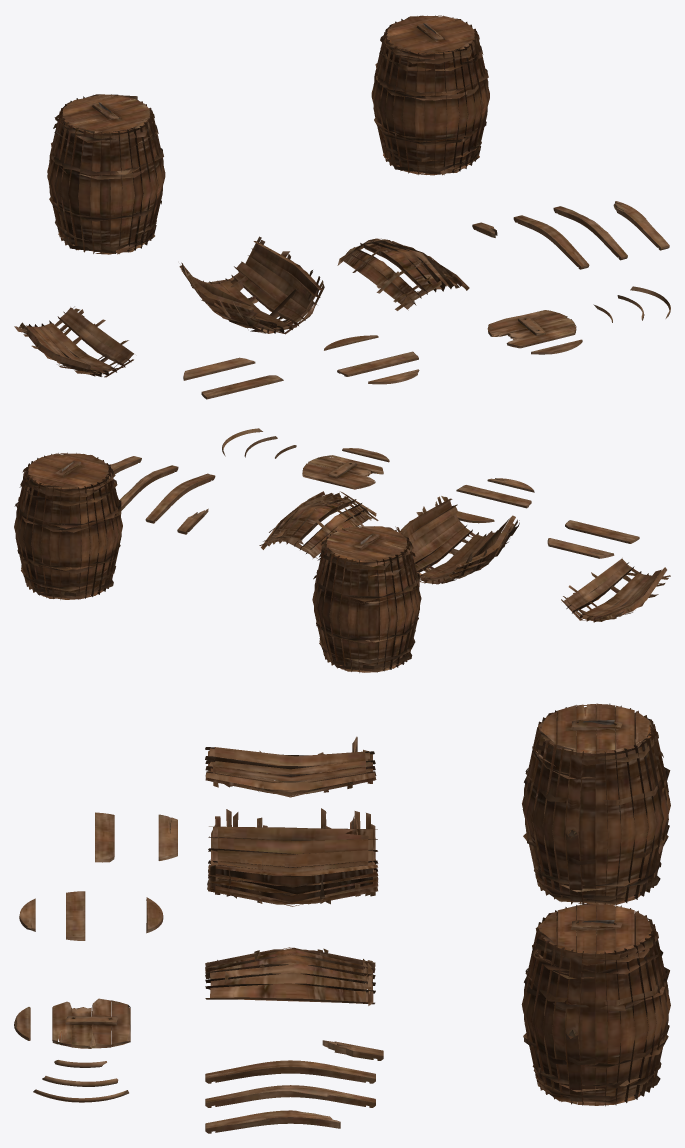
The model's file is kf_barrels.glb.
3 views of the same model, one above another, from view 1: azimuth 30°, elevation 25°; view 2: azimuth 150°, elevation 25°; view 3: azimuth 270°, elevation 25° (orthographic). The views are drawn at different scales.
Parts seen in each view (by area): view 1: wooden_barrels_01_barrel02, wooden_barrels_01_barrel01, wooden_barrels_01_piece01, wooden_barrels_01_piece03, wooden_barrels_01_piece02, wooden_barrels_01_piece08, wooden_barrels_01_piece04, wooden_barrels_01_piece05, wooden_barrels_01_piece06, wooden_barrels_01_piece11, wooden_barrels_01_piece14, wooden_barrels_01_piece13; view 2: wooden_barrels_01_barrel02, wooden_barrels_01_barrel01, wooden_barrels_01_piece01, wooden_barrels_01_piece03, wooden_barrels_01_piece02, wooden_barrels_01_piece08, wooden_barrels_01_piece04, wooden_barrels_01_piece14, wooden_barrels_01_piece11, wooden_barrels_01_piece05, wooden_barrels_01_piece13; view 3: wooden_barrels_01_barrel01, wooden_barrels_01_barrel02, wooden_barrels_01_piece01, wooden_barrels_01_piece03, wooden_barrels_01_piece02, wooden_barrels_01_piece08, wooden_barrels_01_piece04, wooden_barrels_01_piece05, wooden_barrels_01_piece06, wooden_barrels_01_piece11, wooden_barrels_01_piece14, wooden_barrels_01_piece13 (+1 smaller).
Boxes of the visible parts, left/top/right/bottom form: wooden_barrels_01_barrel02: left=47, top=94, right=165, bottom=254; wooden_barrels_01_barrel01: left=371, top=15, right=489, bottom=175; wooden_barrels_01_piece01: left=179, top=236, right=324, bottom=334; wooden_barrels_01_piece03: left=337, top=238, right=469, bottom=310; wooden_barrels_01_piece02: left=14, top=306, right=133, bottom=377; wooden_barrels_01_piece08: left=487, top=310, right=576, bottom=348; wooden_barrels_01_piece04: left=513, top=215, right=589, bottom=269; wooden_barrels_01_piece05: left=553, top=206, right=627, bottom=260; wooden_barrels_01_piece06: left=613, top=201, right=669, bottom=250; wooden_barrels_01_piece11: left=337, top=351, right=418, bottom=376; wooden_barrels_01_piece14: left=201, top=375, right=283, bottom=399; wooden_barrels_01_piece13: left=183, top=357, right=255, bottom=380; wooden_barrels_01_barrel02: left=312, top=525, right=421, bottom=672; wooden_barrels_01_barrel01: left=14, top=452, right=122, bottom=599; wooden_barrels_01_piece01: left=395, top=496, right=519, bottom=584; wooden_barrels_01_piece03: left=259, top=491, right=378, bottom=560; wooden_barrels_01_piece02: left=561, top=558, right=670, bottom=622; wooden_barrels_01_piece08: left=302, top=455, right=383, bottom=489; wooden_barrels_01_piece04: left=145, top=473, right=215, bottom=523; wooden_barrels_01_piece14: left=565, top=520, right=639, bottom=543; wooden_barrels_01_piece11: left=456, top=485, right=531, bottom=508; wooden_barrels_01_piece05: left=120, top=465, right=178, bottom=510; wooden_barrels_01_piece13: left=547, top=538, right=614, bottom=558; wooden_barrels_01_barrel01: left=521, top=904, right=670, bottom=1106; wooden_barrels_01_barrel02: left=522, top=703, right=670, bottom=905; wooden_barrels_01_piece01: left=207, top=808, right=378, bottom=906; wooden_barrels_01_piece03: left=205, top=947, right=375, bottom=1005; wooden_barrels_01_piece02: left=205, top=736, right=376, bottom=797; wooden_barrels_01_piece08: left=52, top=998, right=130, bottom=1048; wooden_barrels_01_piece04: left=205, top=1060, right=375, bottom=1083; wooden_barrels_01_piece05: left=205, top=1085, right=375, bottom=1107; wooden_barrels_01_piece06: left=205, top=1110, right=340, bottom=1133; wooden_barrels_01_piece11: left=66, top=891, right=85, bottom=940; wooden_barrels_01_piece14: left=95, top=812, right=114, bottom=862; wooden_barrels_01_piece13: left=158, top=814, right=177, bottom=860.
Size of what is drawn, in the model's own units: 4.44 by 0.9558 by 3.35.
3 materials, 3 textured.
